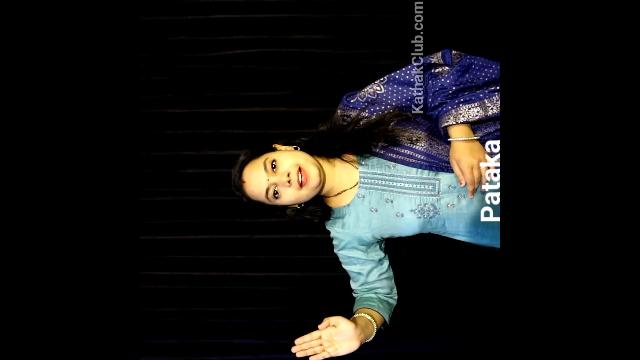pataka: (266, 276, 413, 360)
